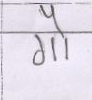ai_matra: (38, 5, 66, 31)
